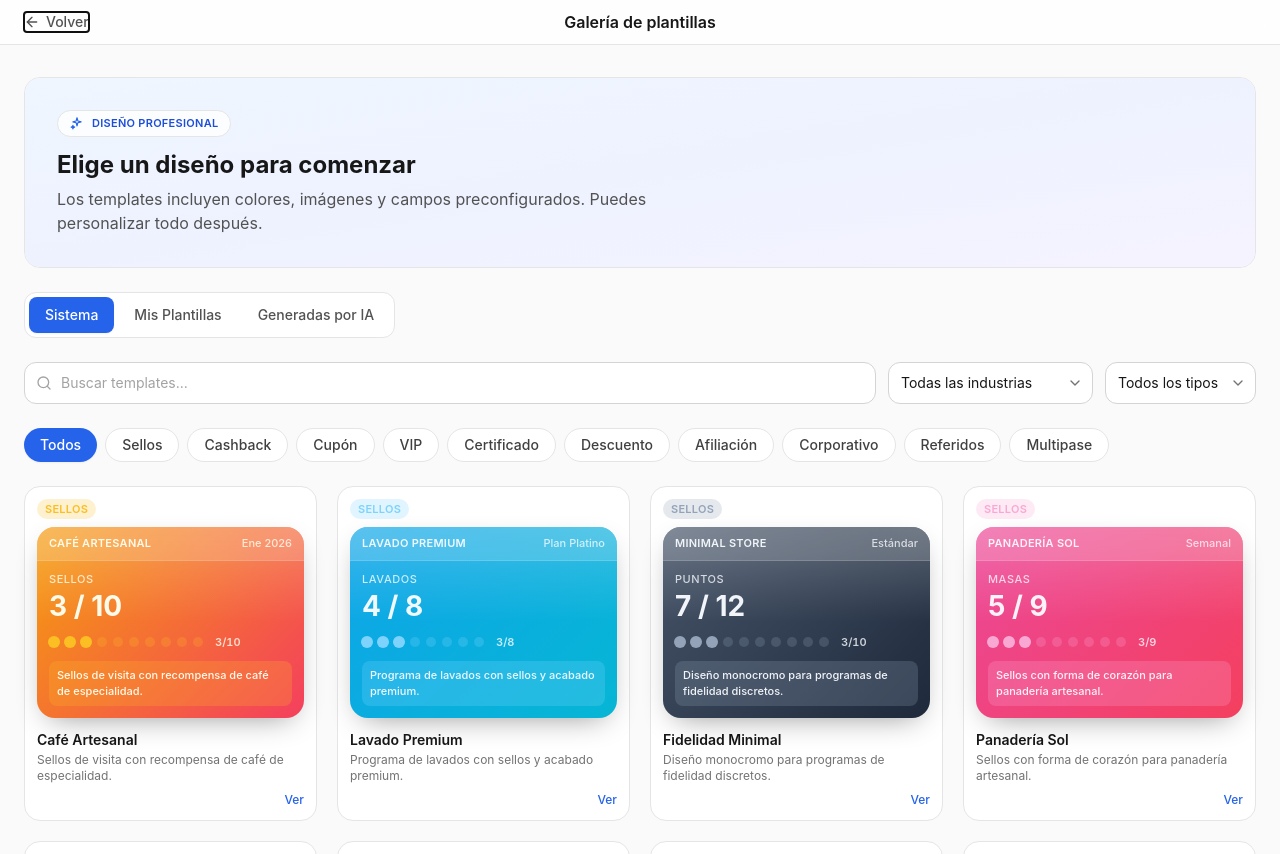
Test case: TemplateGallery filters › search narrows results and empty state appears
Type "Café Artesanal" into the field with test id "gallery-search-input" at (450, 382), box [24, 362, 876, 404]
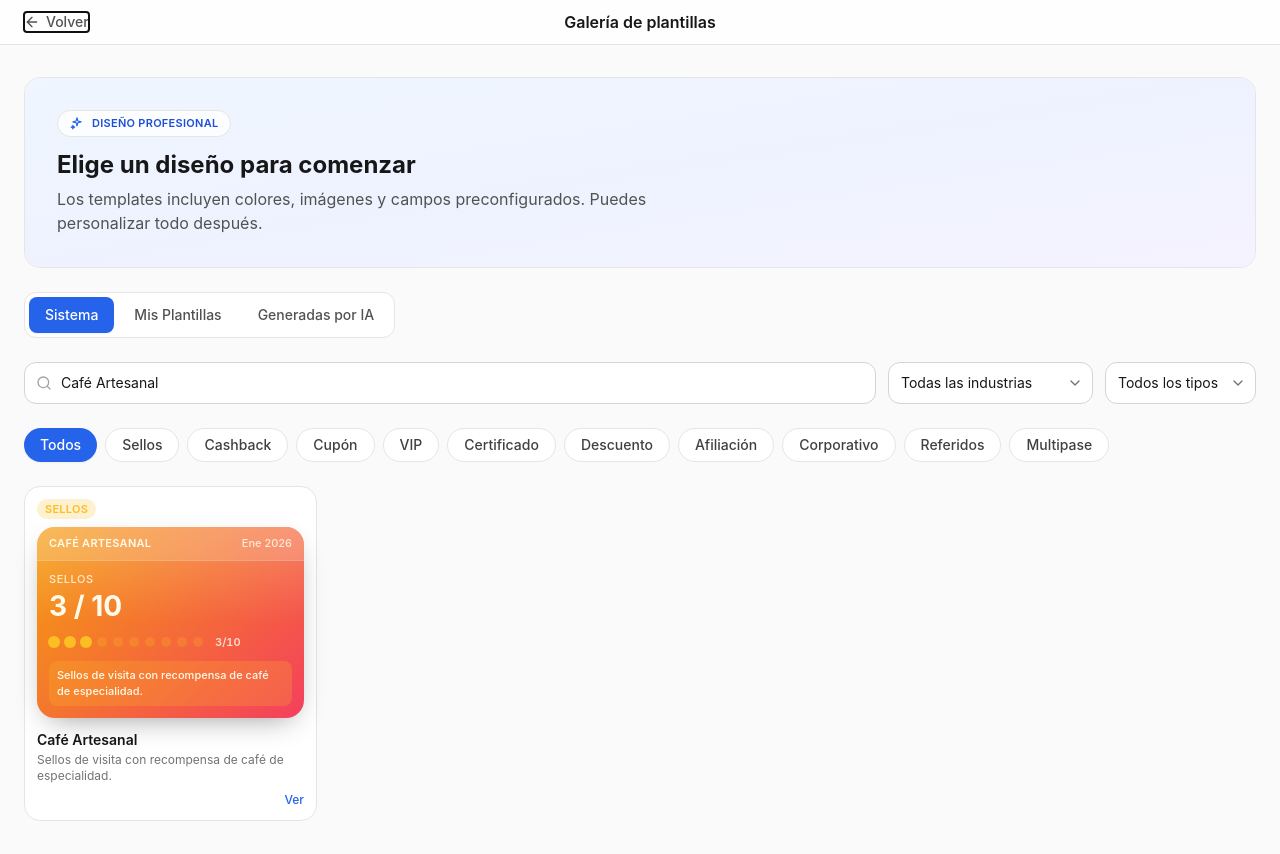
Replace the text in the field with test id "gallery-search-input" with "zzz-no-match-zzz" at (450, 382), box [24, 362, 876, 404]
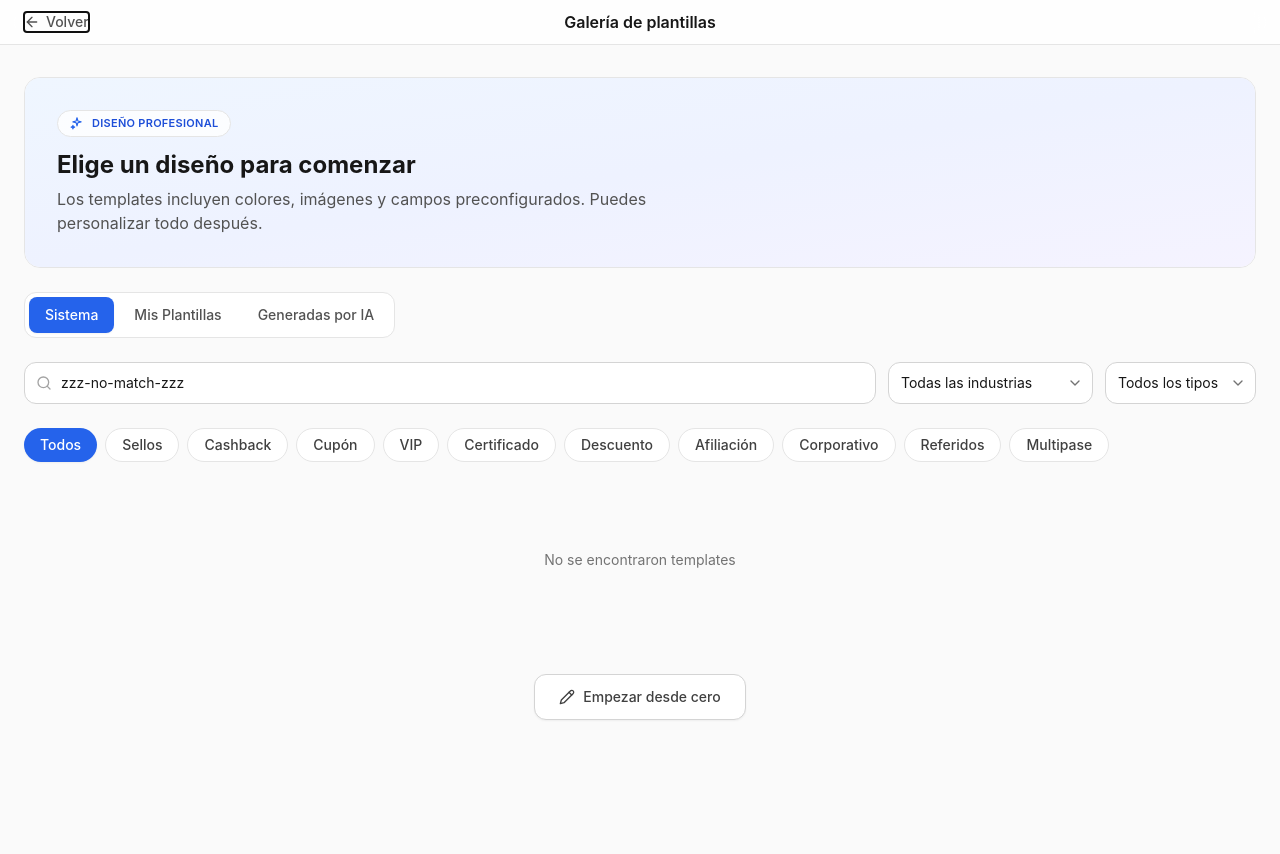
Expected: the element with test id "gallery-empty" is shown, [544, 550, 736, 568]
